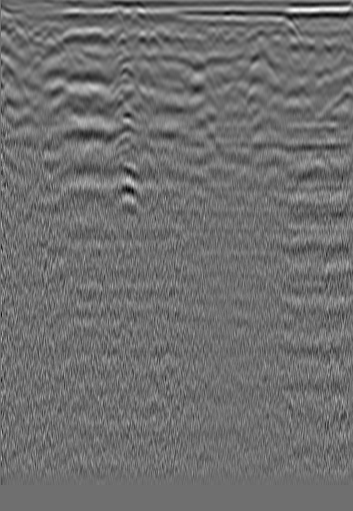가스: (102, 181, 144, 211)
상수: (12, 20, 32, 40)
오수: (300, 24, 330, 56)
우수: (147, 25, 167, 45)
